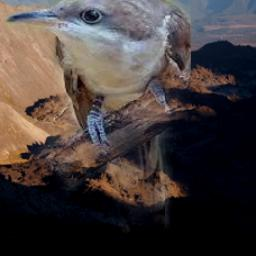Cuckoo: (4, 0, 191, 240)
